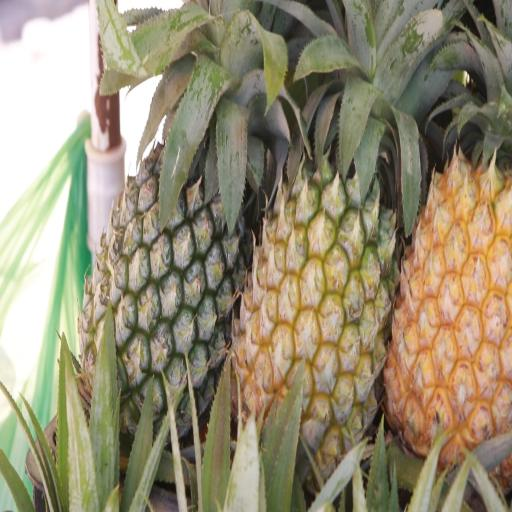------------------------------: (232, 40, 402, 496)
Pineapple - v8 v1: (379, 30, 512, 510)
